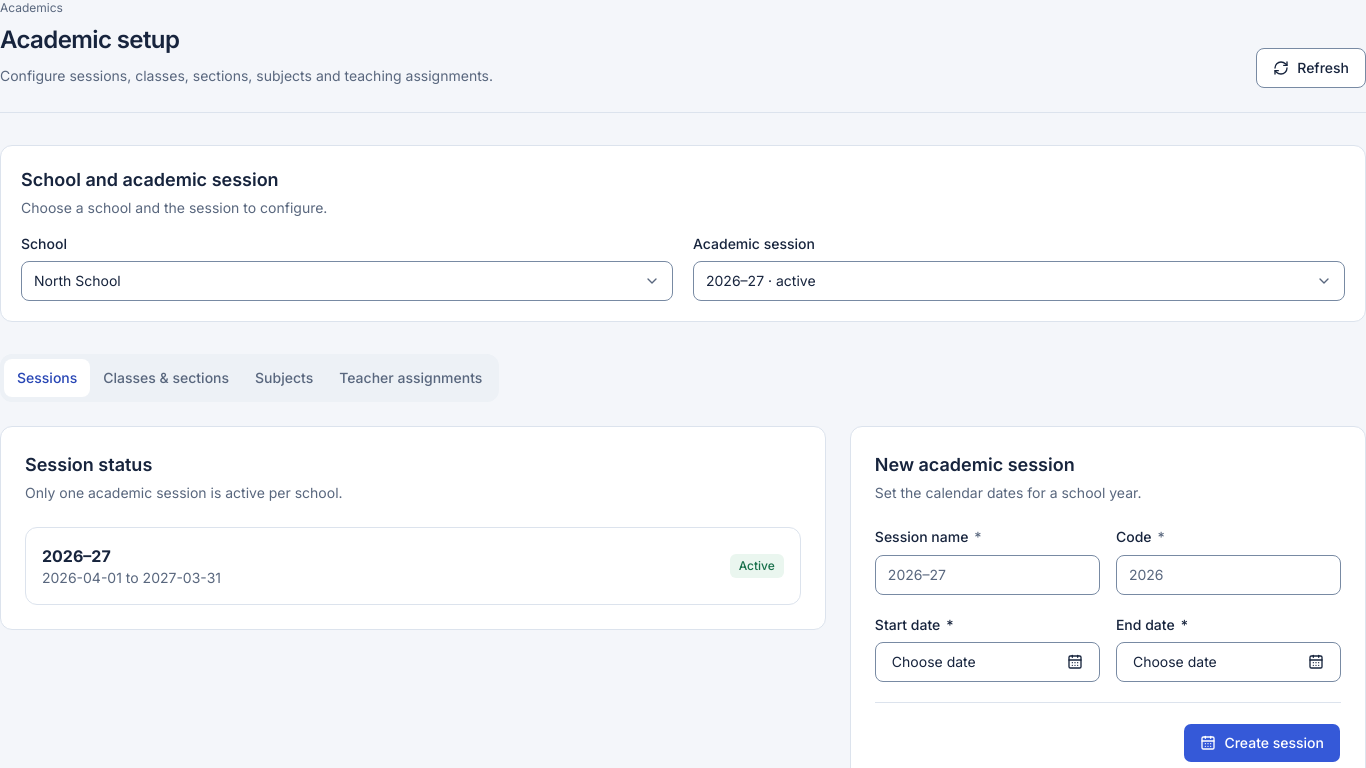
Test: academic setup task areas › confirms a successful write when refresh fails and blocks duplicate creation until recovery
Click the tab "Classes & sections".
click(166, 378)  # box [90,359,242,397]
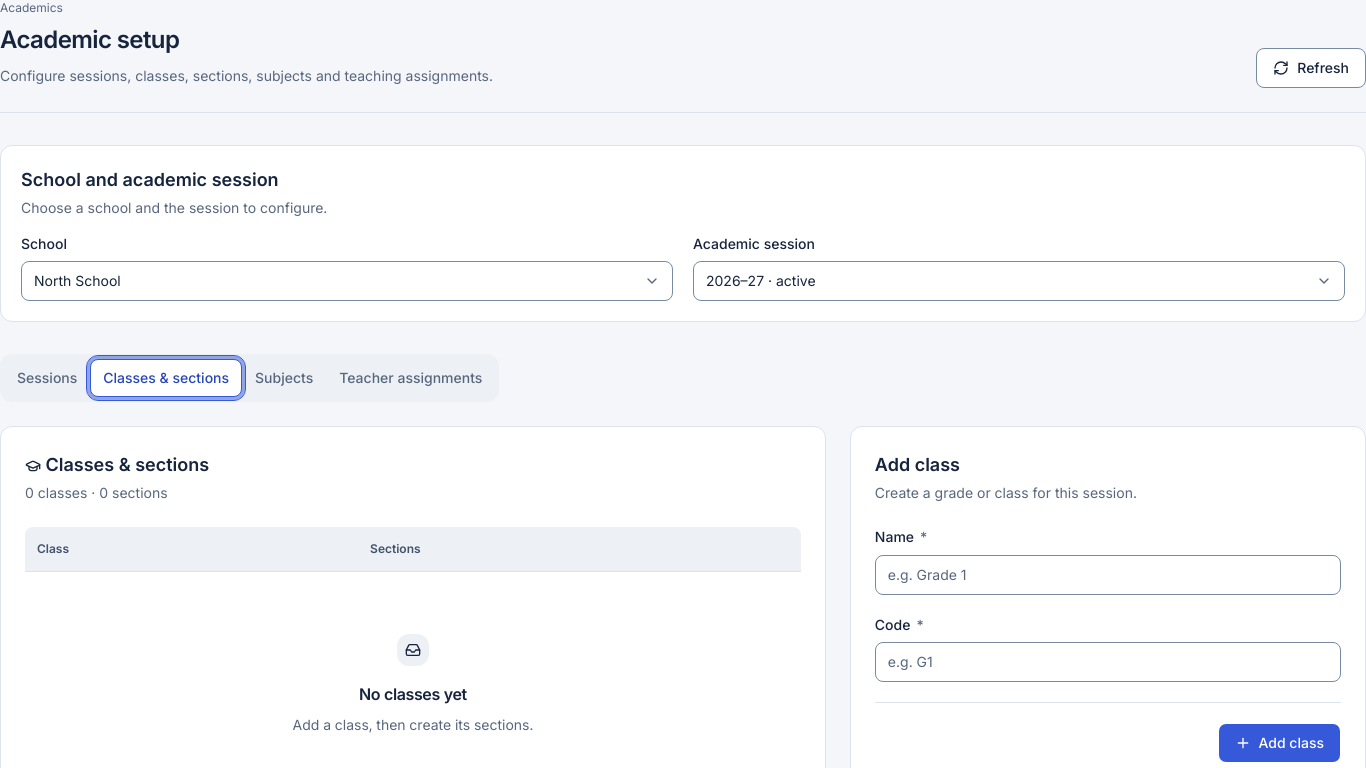
Type "Grade 1" into the field labelled "Name".
click(1108, 574); type("Grade 1")  # box [875,554,1341,594]
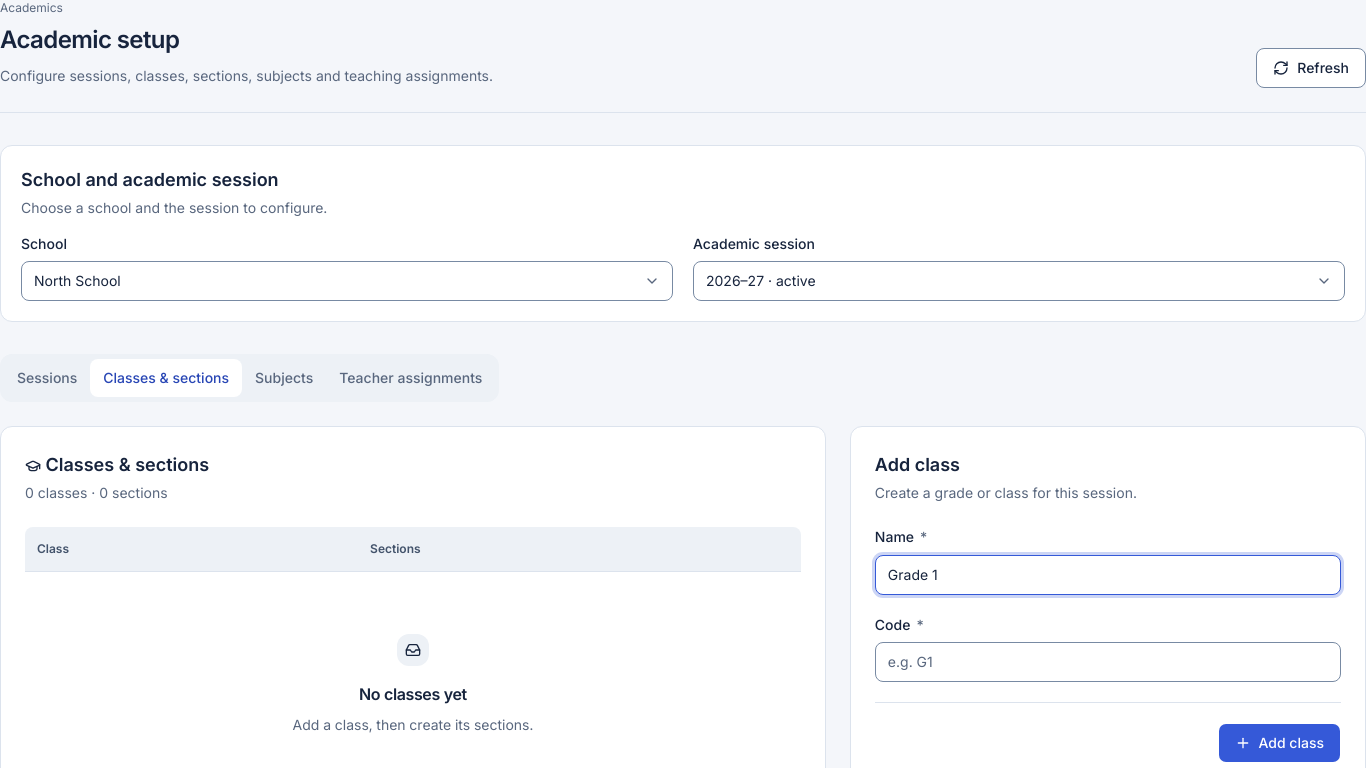
Type "G1" into the field labelled "Code".
click(1108, 662); type("G1")  # box [875,642,1341,682]
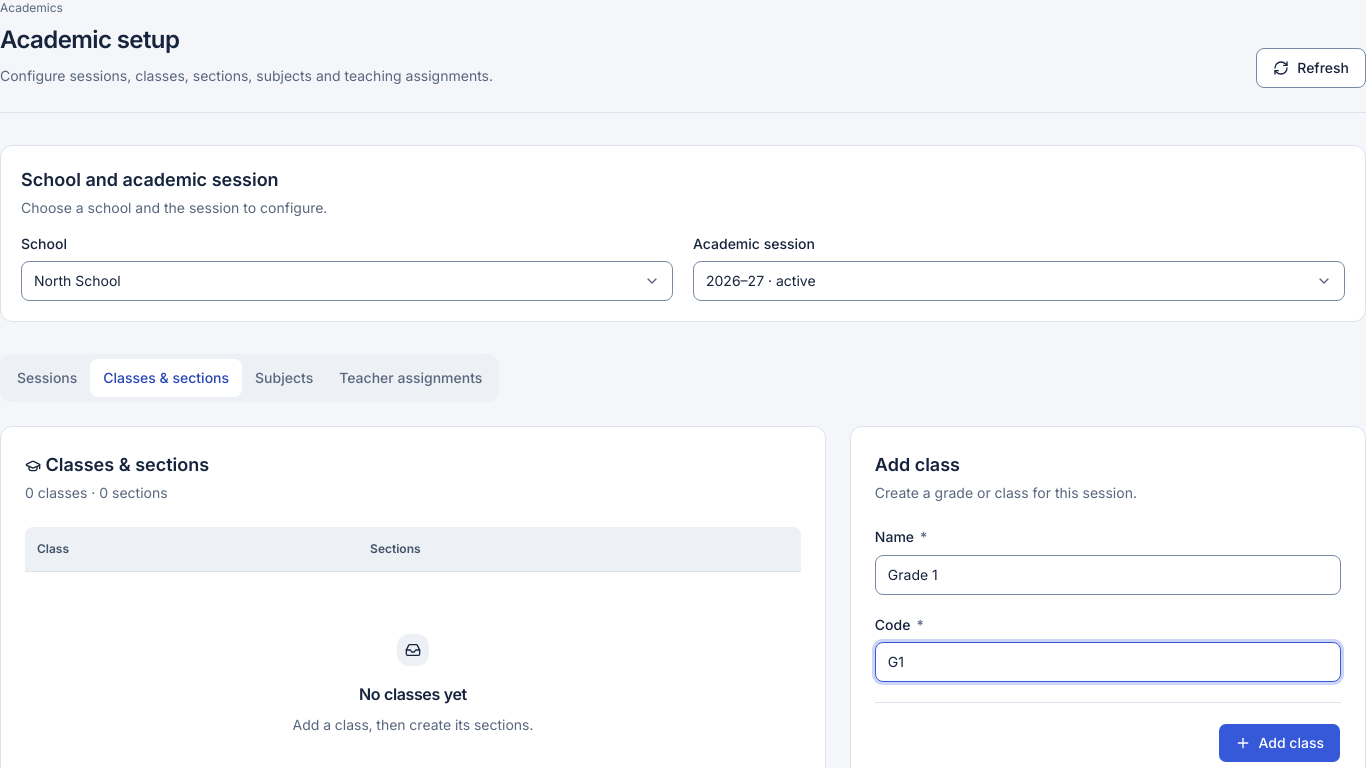
Click the button "Add class".
click(1279, 743)  # box [1218,723,1341,763]
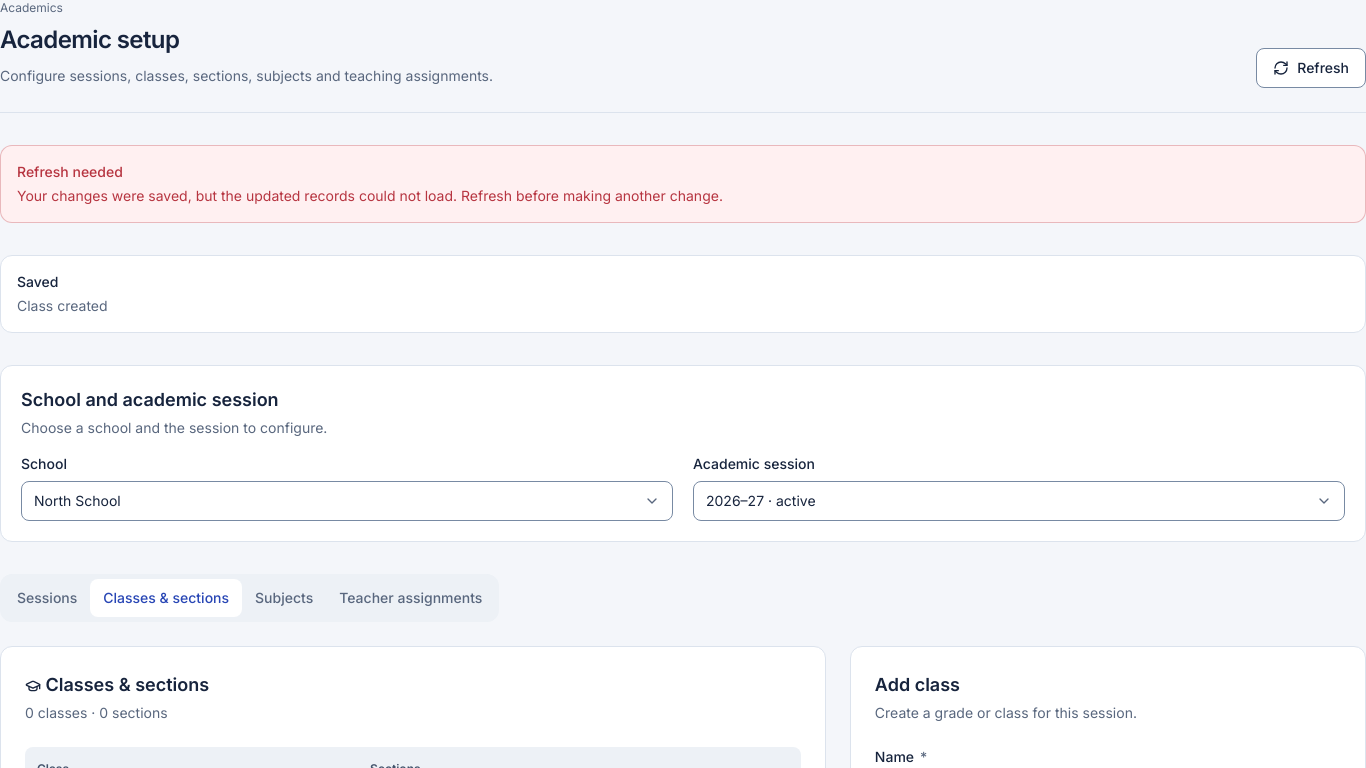
Expected: the text "Class created" is shown, [17,297,108,314]
Expected: the text "Refresh needed" is shown, [17,163,123,180]
Click the button "Refresh".
click(1311, 68)  # box [1256,48,1365,88]
(page scrolled)
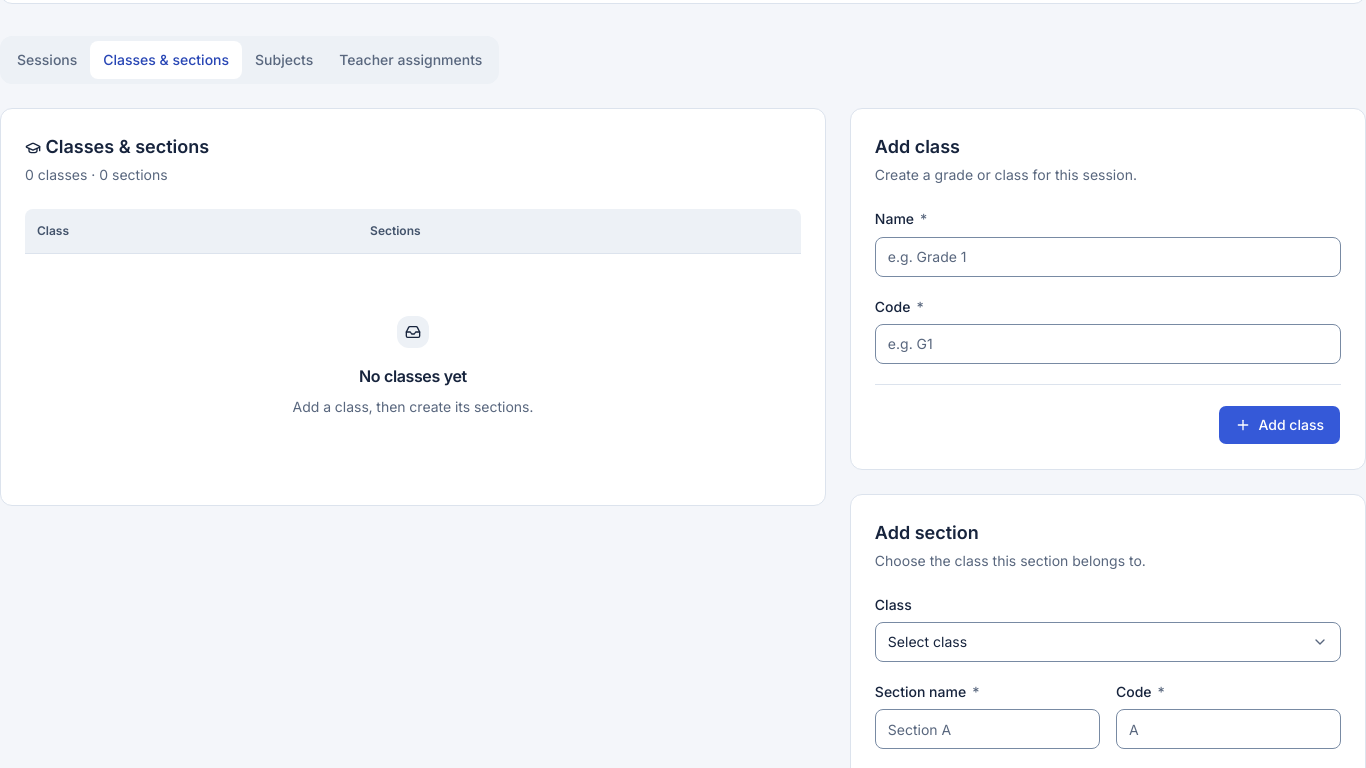
Expected: the button "Add class" is enabled, [1218,405,1341,445]
